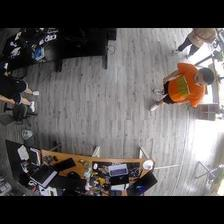normal: (148, 61, 214, 113)
